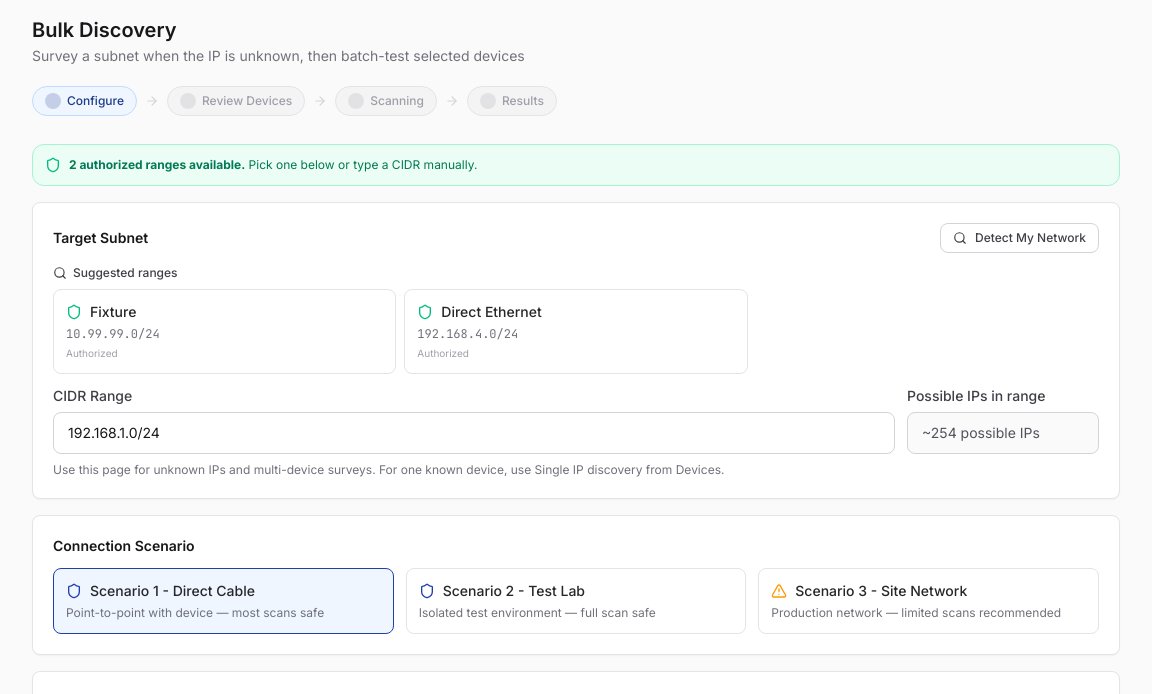
NetworkScanPage › keeps network detection available when authorized ranges already exist
Click the button "Detect My Network" at (1020, 238), box [940,223,1099,253]
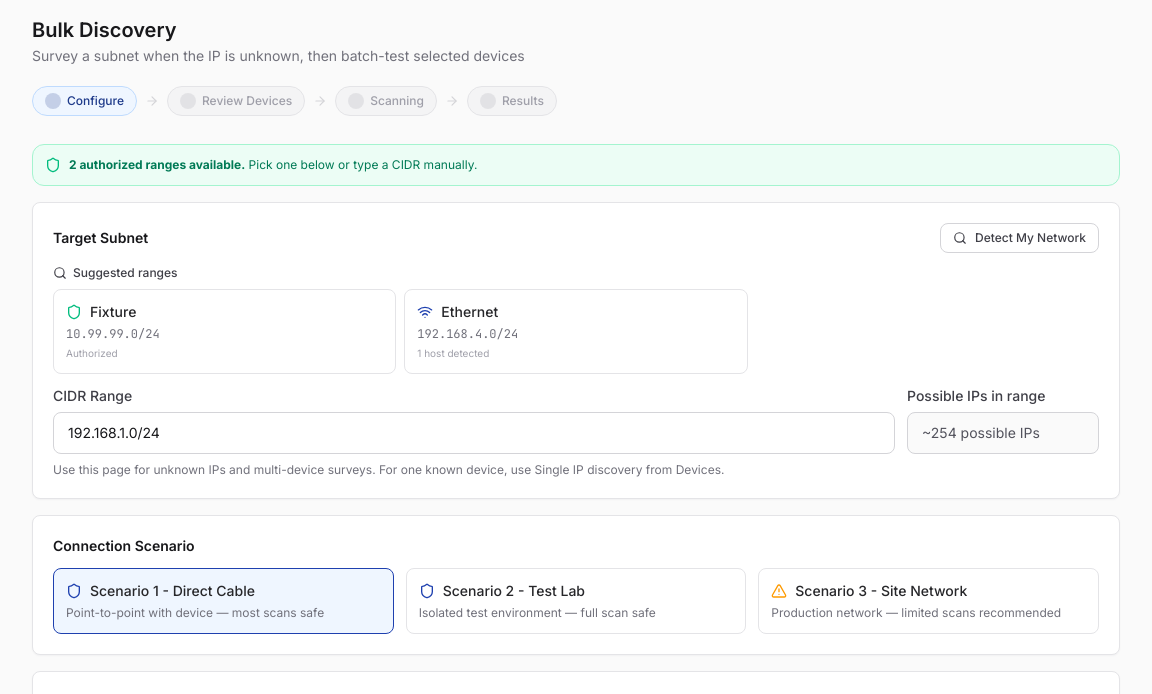
Expected: the text "Suggested ranges" is shown, [53,265,178,280]
Now the text "1 host detected" is shown, box [417,347,489,359]
